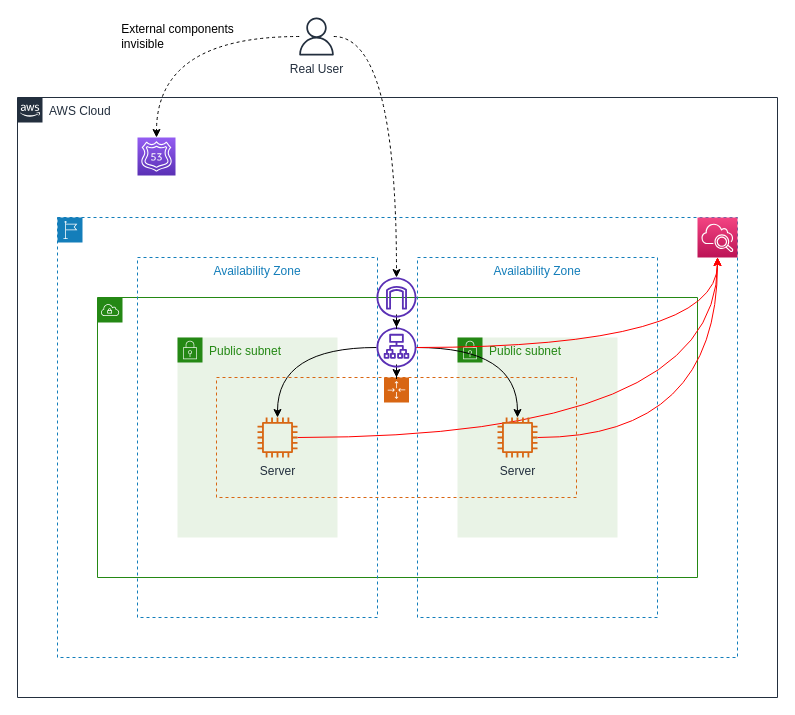
Some shapes in this 795 by 715 pixel diagram are drawn without their labels. Here are the shapes that lost their labels. From the top down, the box of each, then its label:
(696, 216, 738, 258): Logs and Metrics
(216, 376, 576, 498): Auto Scaling group
(56, 216, 738, 658): Region
(96, 296, 698, 578): VPC
